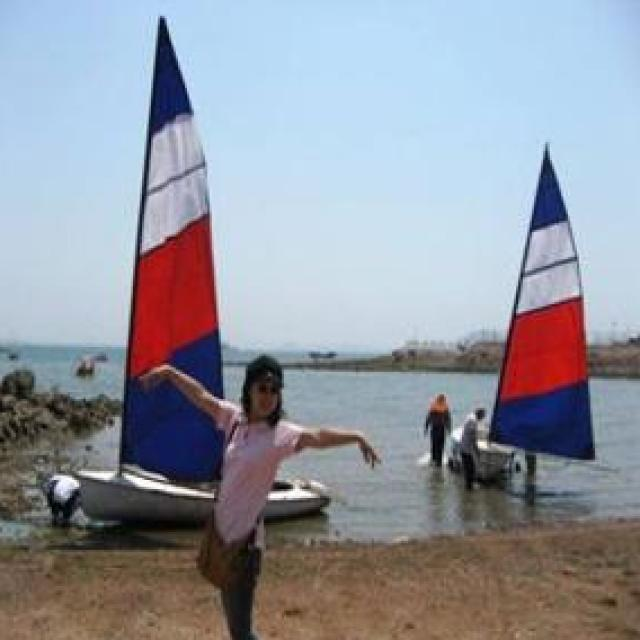sailboat: (65, 15, 317, 514), (448, 147, 595, 477)
